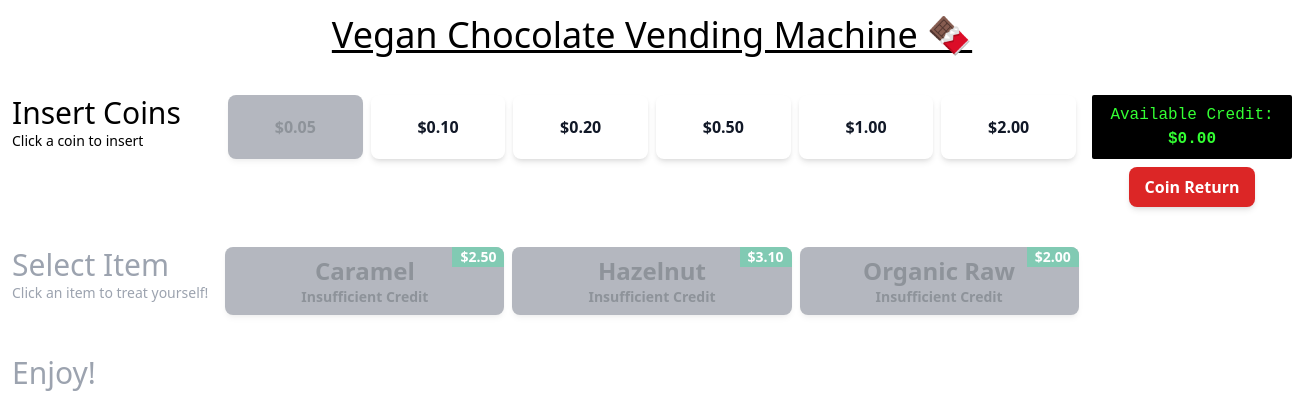
Test: vending machine tests › should reduce available credit once purchase has been made
Click the button "$0.50". click: (723,127)
box: top-left (656, 95), bottom-right (791, 159)
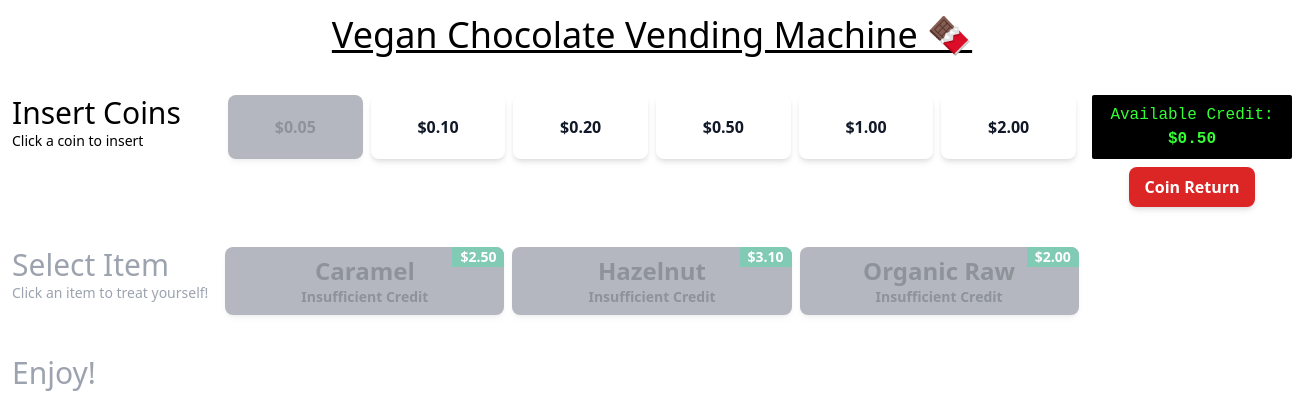
Click the button "$1.00". click: (866,127)
box: top-left (799, 95), bottom-right (933, 159)
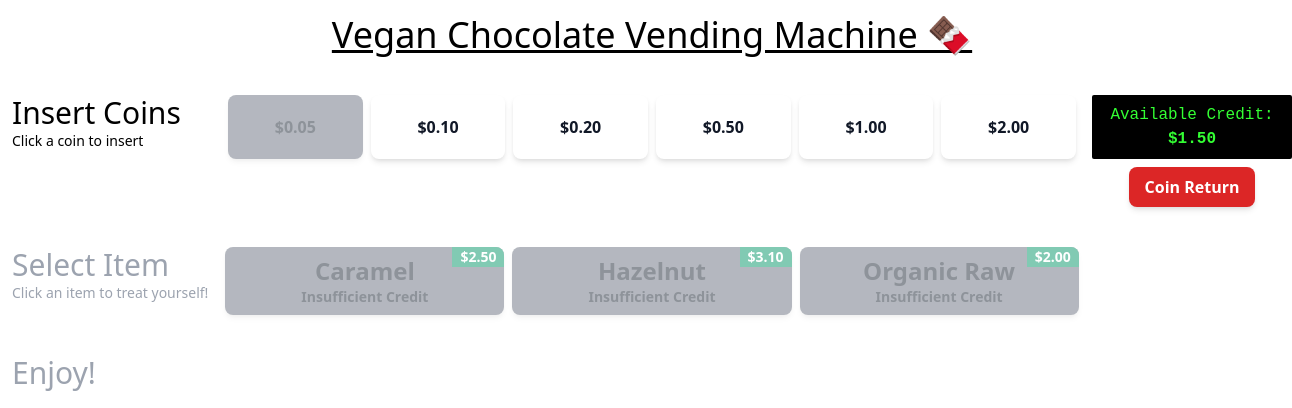
Click the button "$1.00". click: (866,127)
box: top-left (799, 95), bottom-right (933, 159)
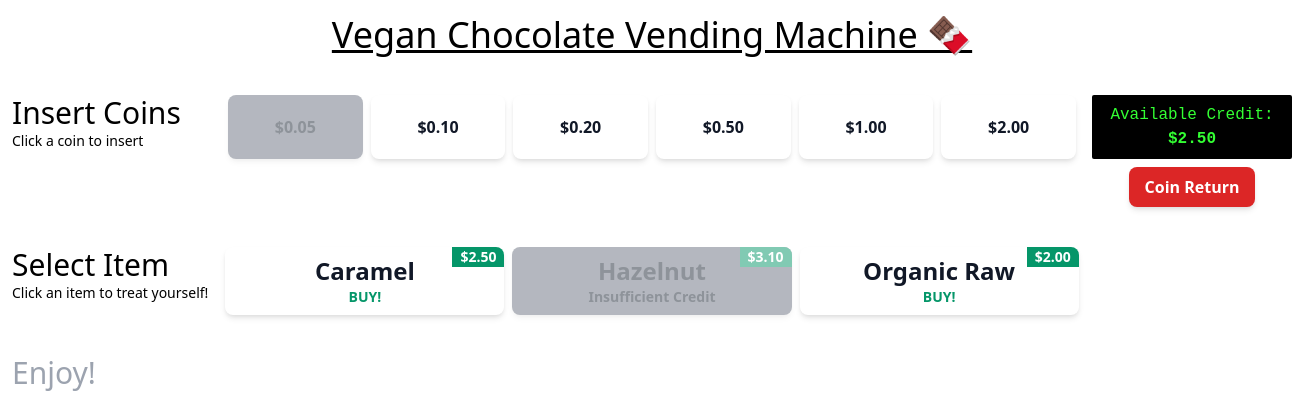
Click the button "$2.00". click: (1009,127)
box: top-left (941, 95), bottom-right (1076, 159)
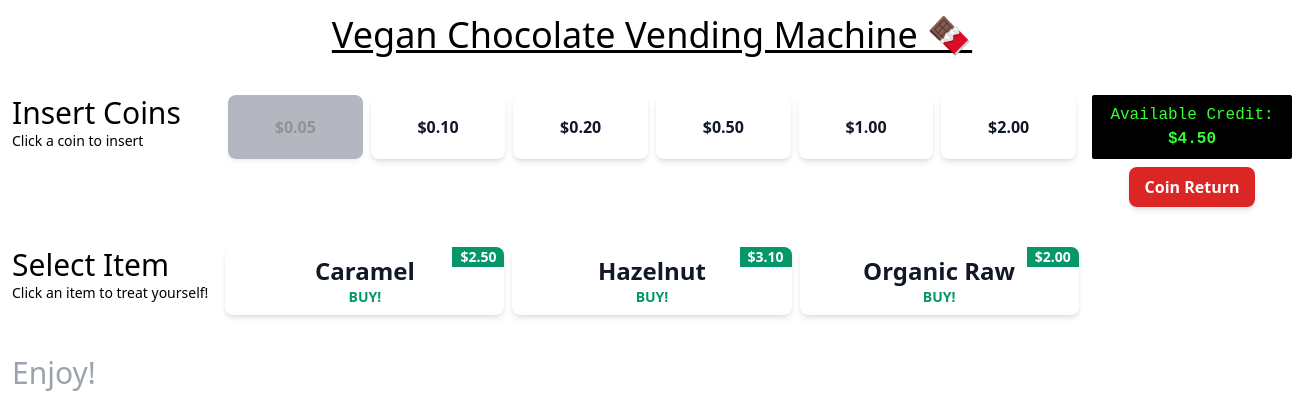
Expected: the text "$4.50" is shown, top-left (1168, 130), bottom-right (1216, 148)
Click the button titled "Hazelnut". click: (652,281)
box: top-left (512, 247), bottom-right (792, 315)
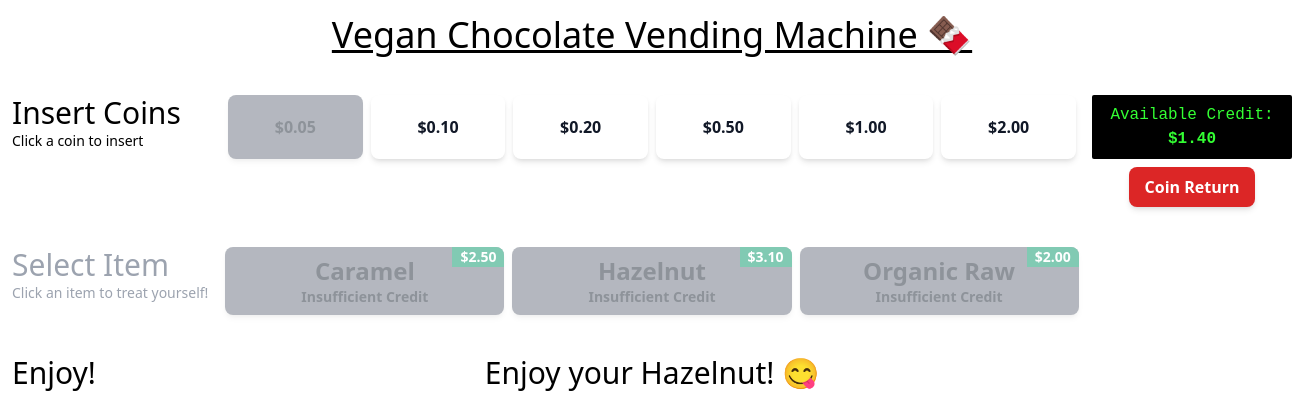
Expected: the text "$1.40" is shown, top-left (1168, 130), bottom-right (1216, 148)
